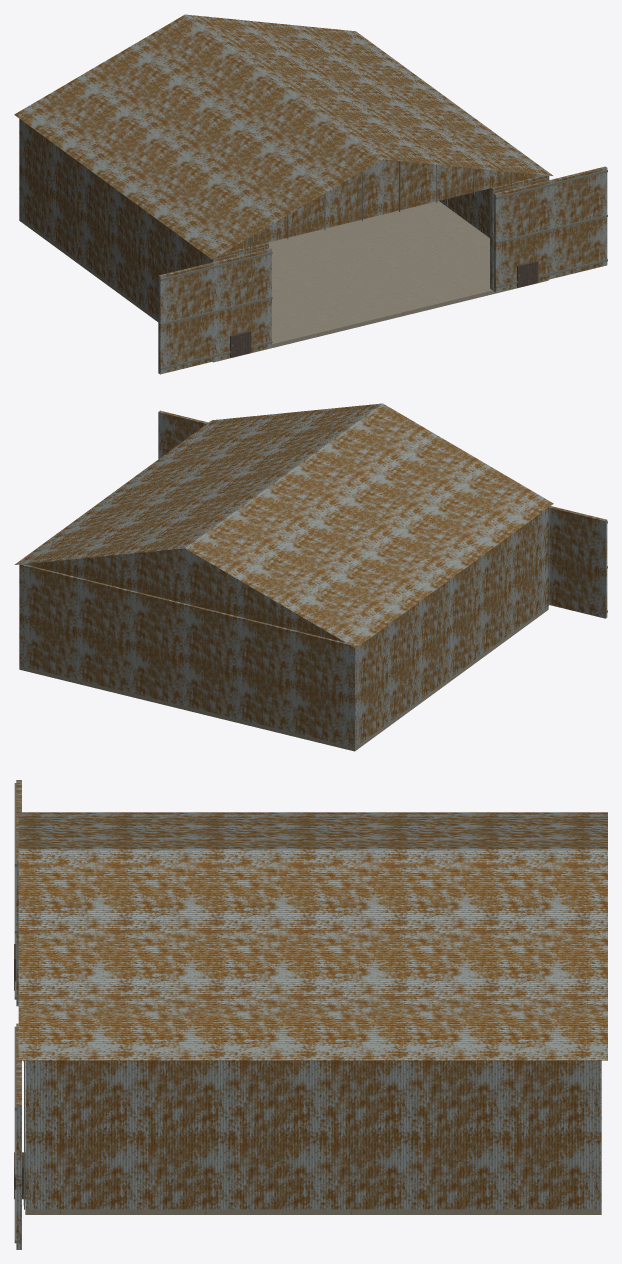
Rendered from hangar_small.glb.
3 views of the same model, one above another, from view 1: azimuth 30°, elevation 25°; view 2: azimuth 150°, elevation 25°; view 3: azimuth 270°, elevation 25° (orthographic). The views are drawn at different scales.
Parts seen in each view (by area): view 1: Roof_gabled_separate, Floor_concrete_walkable.001, Wall_left_separate.001, Sliding_door_1_OPEN_separate, Sliding_door_-1_OPEN_separate, Front_gable, Wall_right_separate.001, Front_pier_1.001, Front_sheet_seams_and_trims.001, Cargo_box_0_separate, Cargo_box_1_separate; view 2: Roof_gabled_separate, Wall_rear_separate.001, Wall_left_separate.001, Rear_gable, Sliding_door_-1_OPEN_separate, Floor_concrete_walkable.001, Sliding_door_1_OPEN_separate; view 3: Roof_gabled_separate, Wall_right_separate.001, Floor_concrete_walkable.001, Sliding_door_1_OPEN_separate, Front_pier_1.001, Wall_rear_separate.001, Sliding_door_-1_OPEN_separate.
Boxes of the visible parts, bbox=[...] form: Roof_gabled_separate: bbox=[14, 14, 552, 259]; Floor_concrete_walkable.001: bbox=[19, 201, 548, 362]; Wall_left_separate.001: bbox=[19, 119, 217, 317]; Sliding_door_1_OPEN_separate: bbox=[493, 166, 607, 292]; Sliding_door_-1_OPEN_separate: bbox=[158, 248, 271, 374]; Front_gable: bbox=[222, 159, 543, 253]; Wall_right_separate.001: bbox=[439, 177, 546, 237]; Front_pier_1.001: bbox=[490, 175, 548, 290]; Front_sheet_seams_and_trims.001: bbox=[212, 161, 549, 288]; Cargo_box_0_separate: bbox=[230, 331, 251, 357]; Cargo_box_1_separate: bbox=[517, 261, 538, 287]; Roof_gabled_separate: bbox=[14, 403, 553, 648]; Wall_rear_separate.001: bbox=[19, 564, 357, 747]; Wall_left_separate.001: bbox=[350, 508, 548, 747]; Rear_gable: bbox=[24, 548, 345, 642]; Sliding_door_-1_OPEN_separate: bbox=[549, 506, 607, 618]; Floor_concrete_walkable.001: bbox=[19, 606, 548, 751]; Sliding_door_1_OPEN_separate: bbox=[158, 410, 208, 458]; Roof_gabled_separate: bbox=[18, 812, 607, 1060]; Wall_right_separate.001: bbox=[25, 1060, 601, 1209]; Floor_concrete_walkable.001: bbox=[25, 1209, 601, 1214]; Sliding_door_1_OPEN_separate: bbox=[16, 1023, 21, 1249]; Front_pier_1.001: bbox=[25, 1060, 32, 1209]; Wall_rear_separate.001: bbox=[594, 1061, 601, 1209]; Sliding_door_-1_OPEN_separate: bbox=[16, 780, 21, 1006].
Bounding box in the file's own units: 24 × 8.4 × 18.55.
5 materials, 3 textured.
